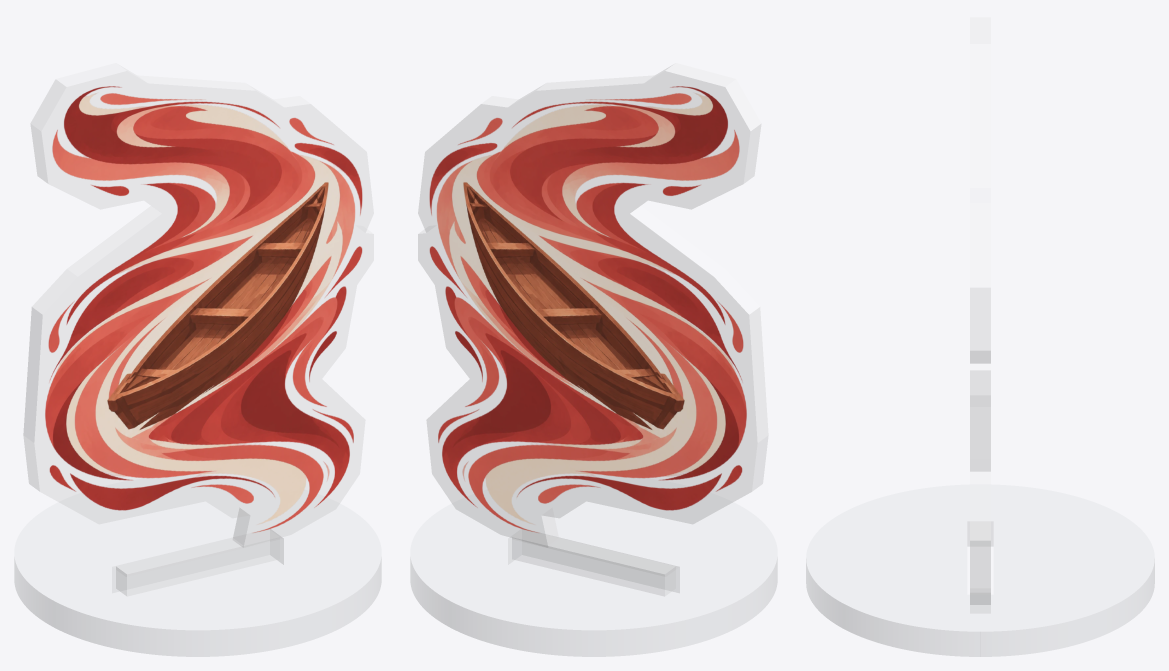
The model's file is nghi-binh.glb.
3 views of the same model, side by side, from view 1: azimuth 30°, elevation 25°; view 2: azimuth 150°, elevation 25°; view 3: azimuth 270°, elevation 25° (orthographic). The views are drawn at different scales.
Parts seen in each view (by area): view 1: ArtworkFront, RoundBaseWithSlot, AcrylicSilhouette, InsertTab; view 2: ArtworkBack, RoundBaseWithSlot, AcrylicSilhouette, InsertTab; view 3: RoundBaseWithSlot, AcrylicSilhouette, InsertTab.
Part boxes in pixels (x1,y1,x2,y2): ArtworkFront: (45, 86, 362, 532); RoundBaseWithSlot: (14, 475, 381, 656); AcrylicSilhouette: (23, 63, 373, 547); InsertTab: (116, 530, 279, 595); ArtworkBack: (429, 86, 746, 532); RoundBaseWithSlot: (410, 475, 777, 656); AcrylicSilhouette: (418, 63, 768, 547); InsertTab: (512, 530, 675, 595); RoundBaseWithSlot: (806, 484, 1154, 656); AcrylicSilhouette: (970, 17, 990, 604); InsertTab: (970, 522, 990, 612).
Bounding box in the file's own units: 26.68 × 39.86 × 25.
5 materials, 2 textured.
